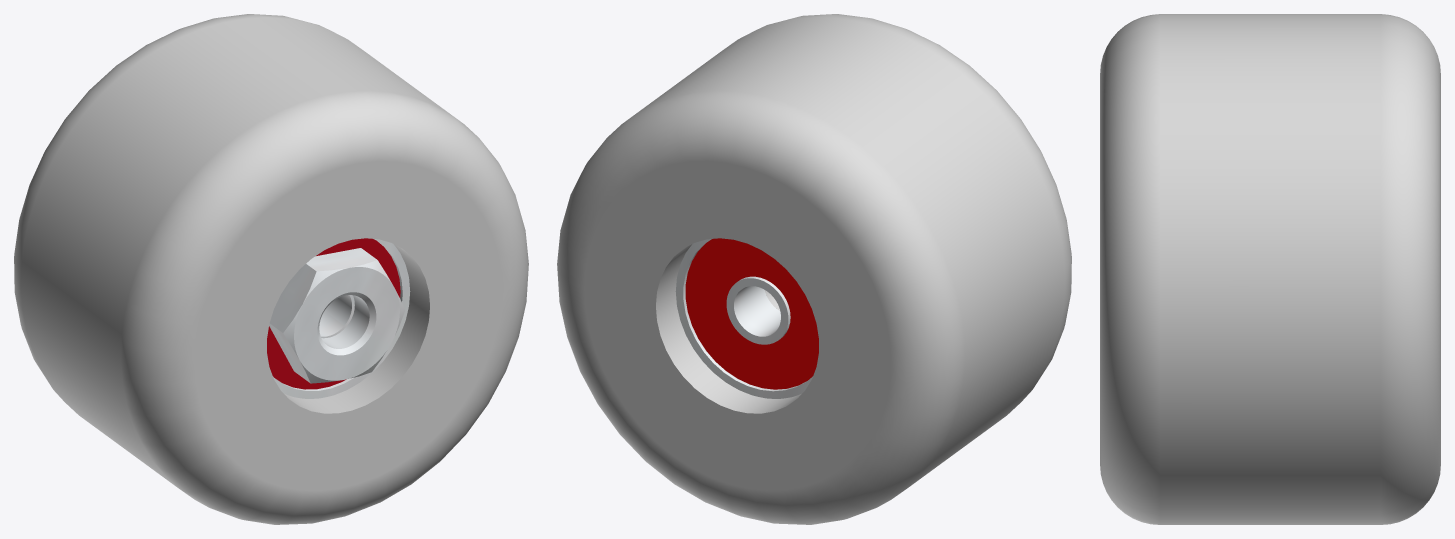
The model's file is Wheel.glb.
The picture shows the model from 3 angles, left to right: view 1: azimuth 30°, elevation 25°; view 2: azimuth 150°, elevation 25°; view 3: azimuth 270°, elevation 25°; orthographic projection. The views are drawn at different scales.
Parts seen in each view (by area): view 1: Assembly 1; view 2: Assembly 1; view 3: Assembly 1.
Part boxes in pixels (box(x1,y1,x2,y2)): Assembly 1: box(14, 14, 528, 524); Assembly 1: box(557, 14, 1071, 524); Assembly 1: box(1100, 14, 1440, 524).
Bounding box in the file's own units: 0.8795 × 0.8794 × 0.5865.
4 materials, 1 textured.
